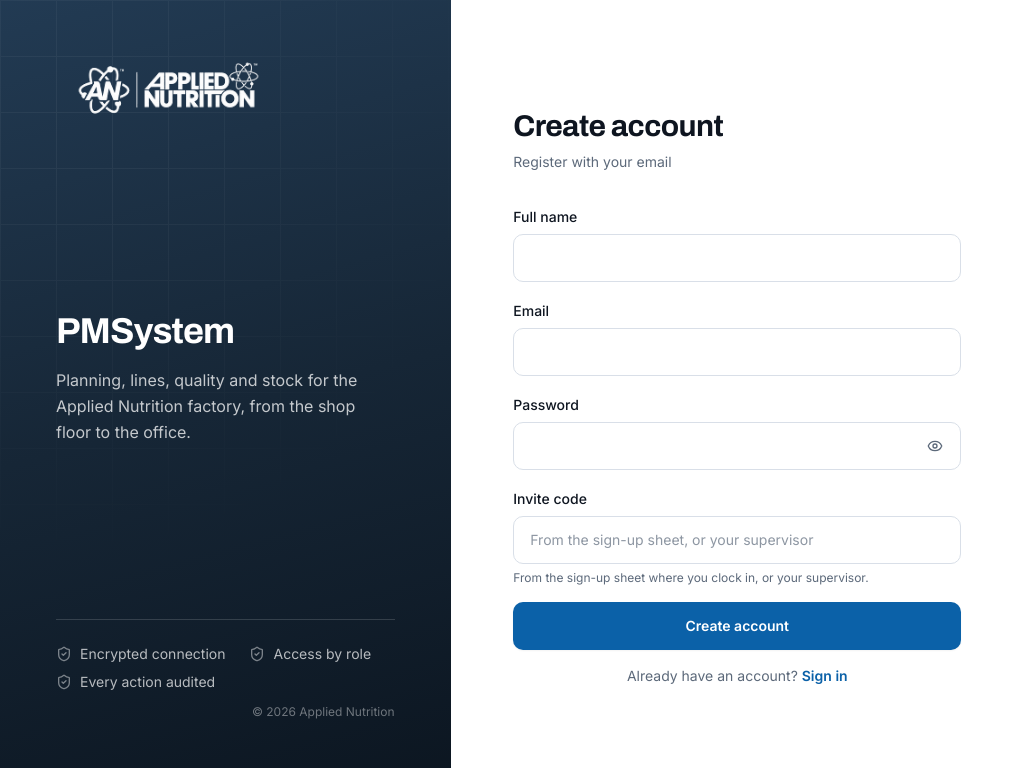
it: Create account — o que a pessoa à frente do ecrã pode saber › uma ligação que cai duas vezes dá a frase que se pode seguir, não o AbortError
The image size is (1024, 768).
Type "Ana Teste" into the field labelled "Full name" at (737, 258), box [513,234,961,282]
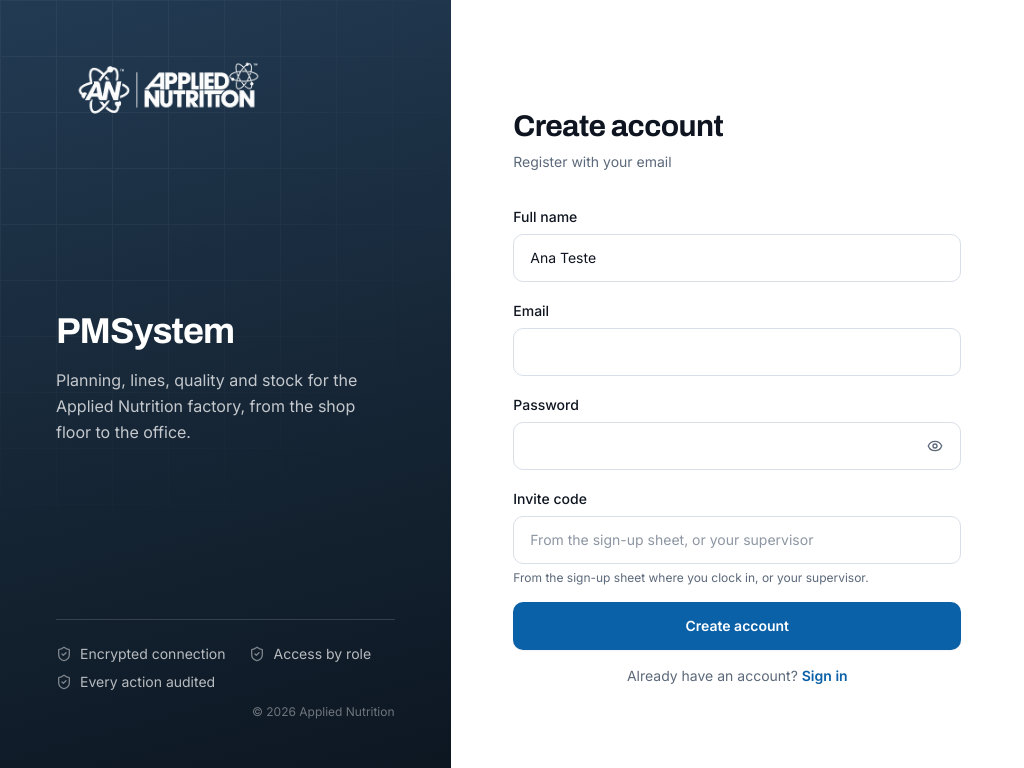
Type "ana@example.com" into the field labelled "Email" at (737, 352), box [513,328,961,376]
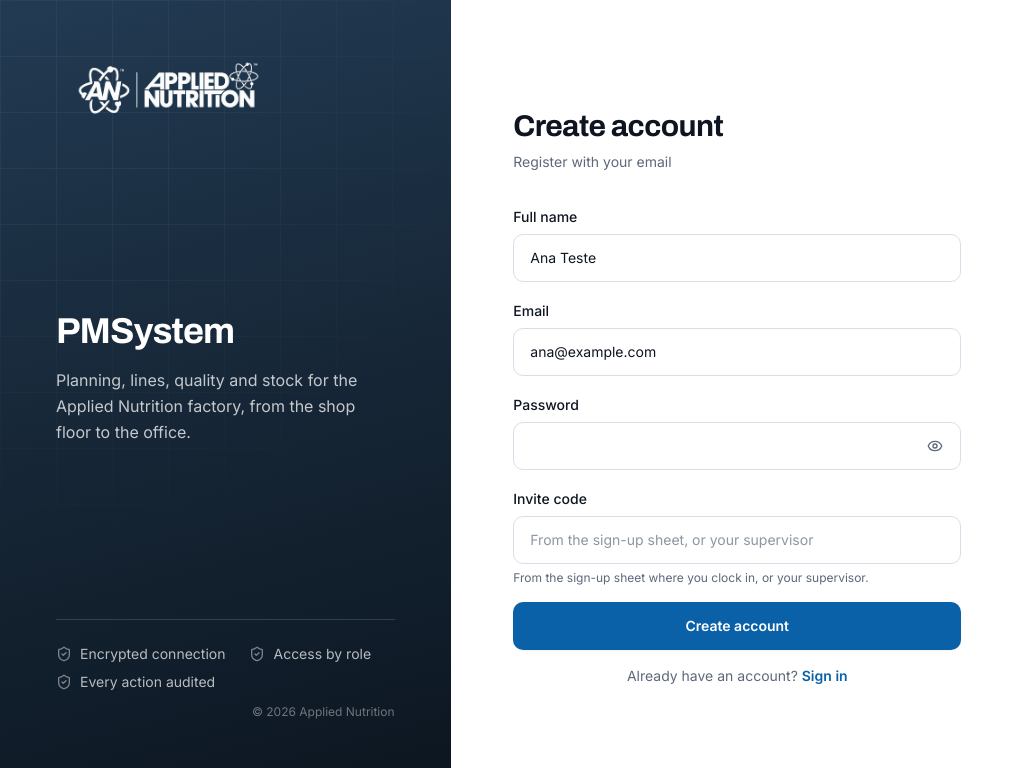
Type "umapalavra" into the password field labelled "Password" at (737, 446), box [513,422,961,470]
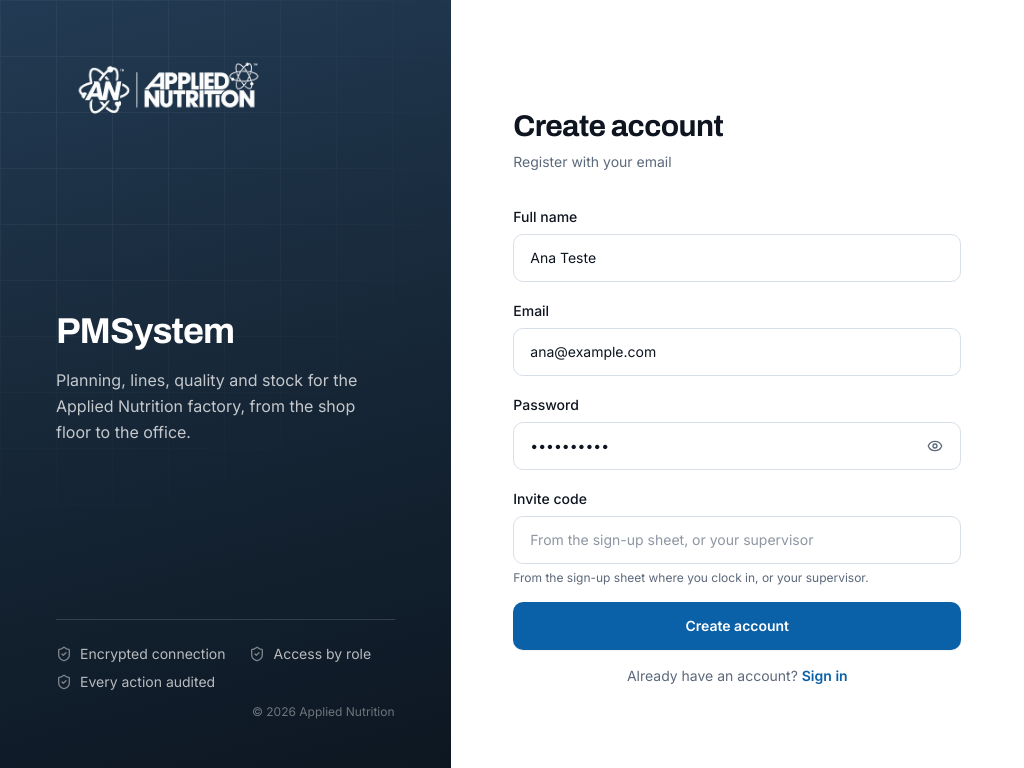
Type "AN-TESTE" into the field labelled "Invite code" at (737, 540), box [513,516,961,564]
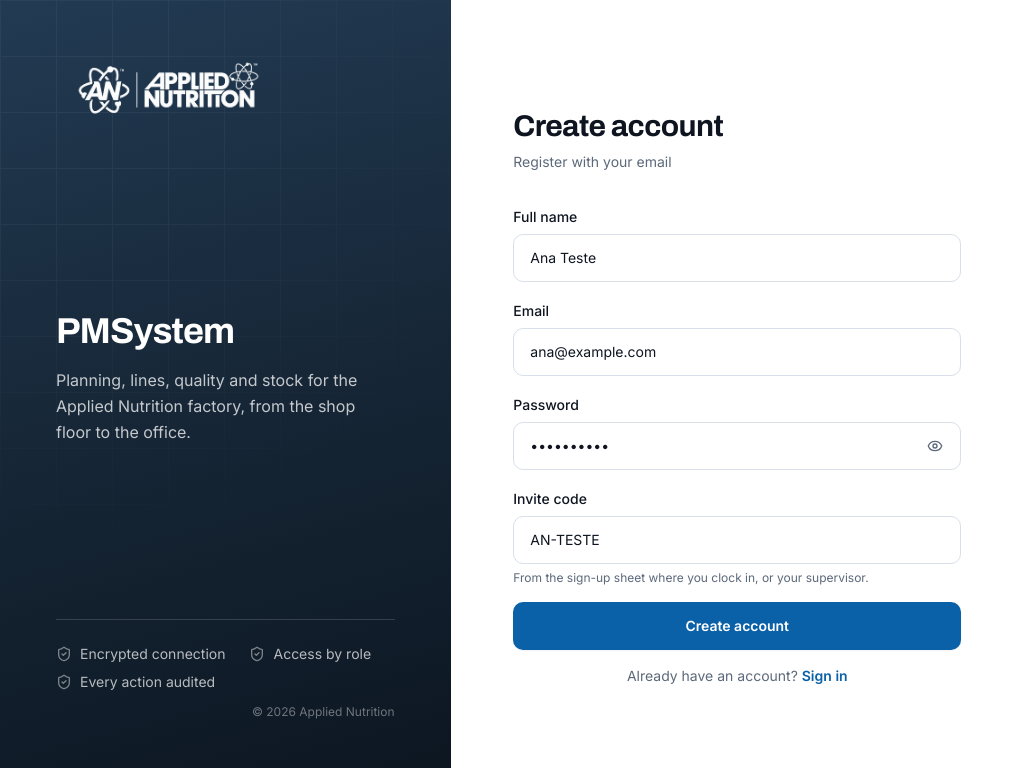
Click the button "Create account" at (737, 626), box [513,602,961,650]
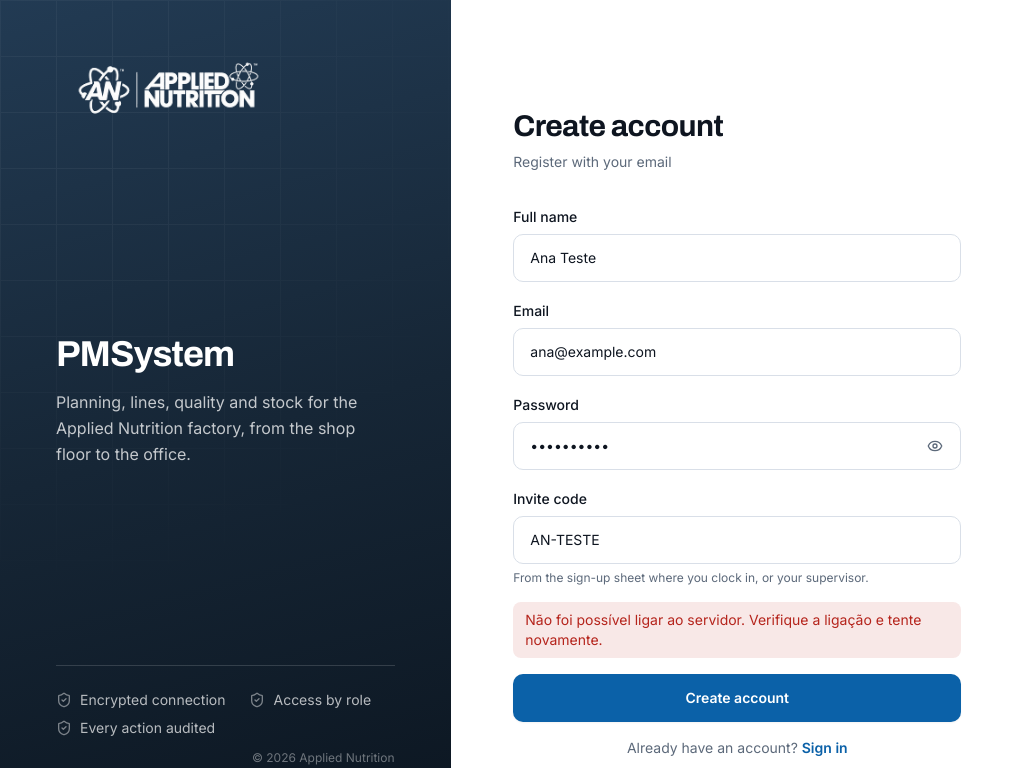
expect the text "Não foi possível ligar ao servidor. Verifique a ligação e tente novamente." is shown: met, box [513,602,961,658]
